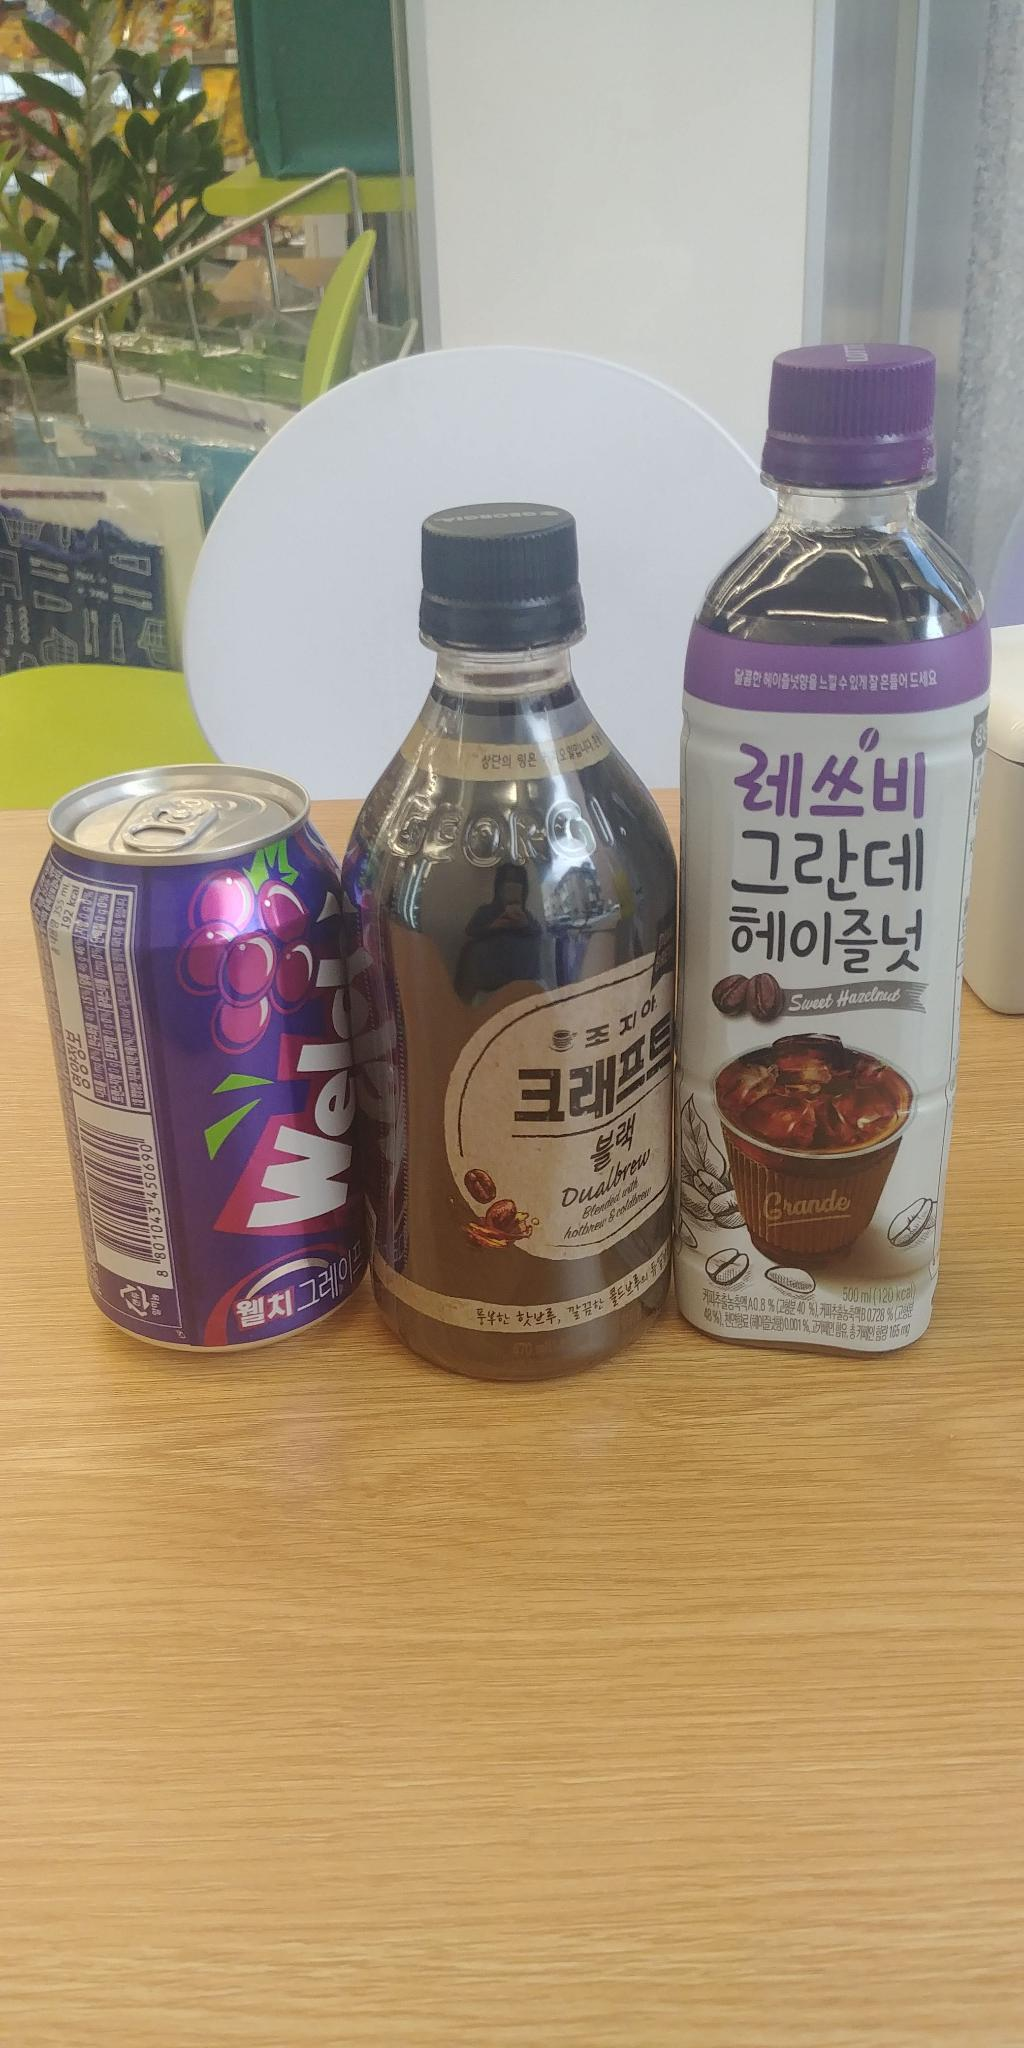georgiacraft_black: (328, 482, 707, 1382)
letsbe_grande_hazelnut: (653, 298, 991, 1373)
welchs_grape: (30, 754, 393, 1370)
